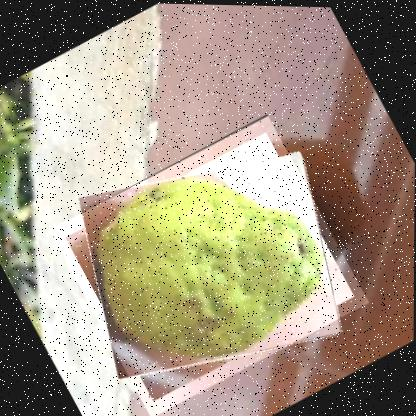guava: (46, 107, 371, 415)
